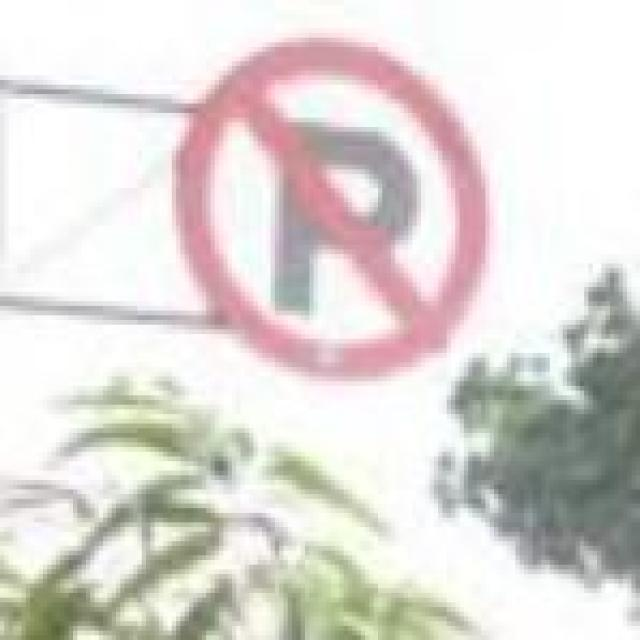traffic sign: (176, 43, 490, 377)
